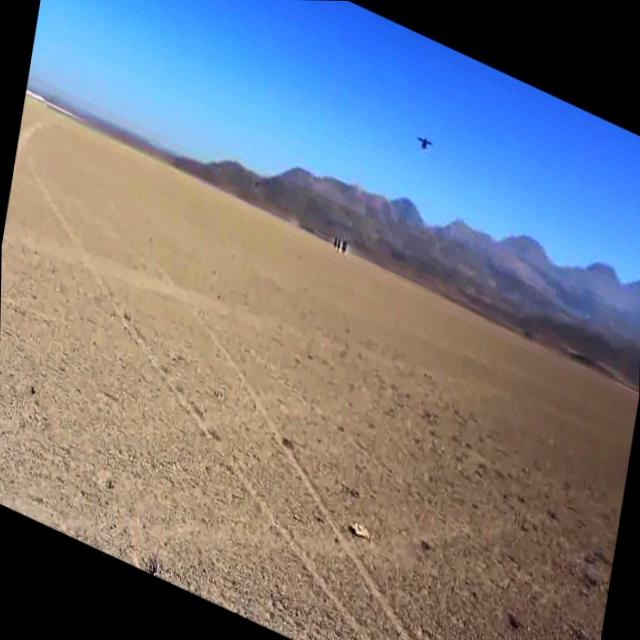drone: (409, 124, 436, 161)
